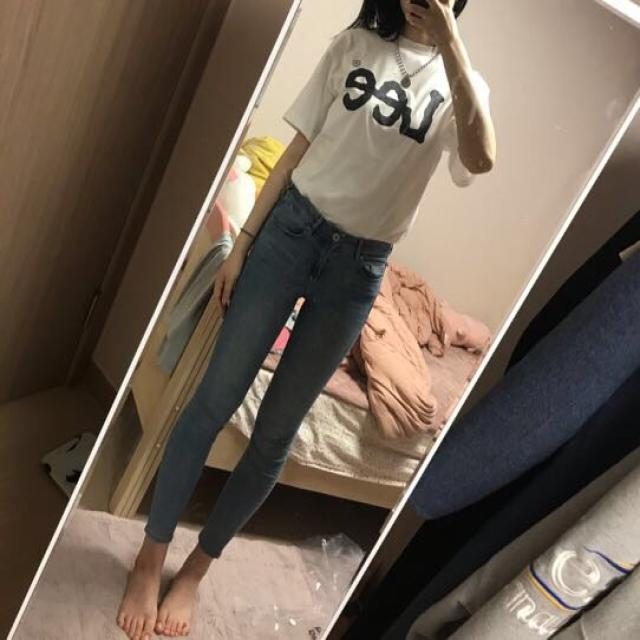denimpants: (142, 185, 398, 563)
shortsleeve: (287, 22, 498, 244)
